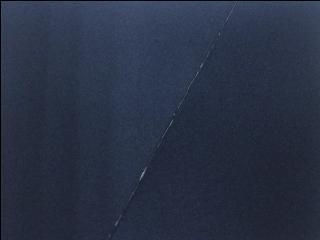crack: (105, 0, 239, 240)
